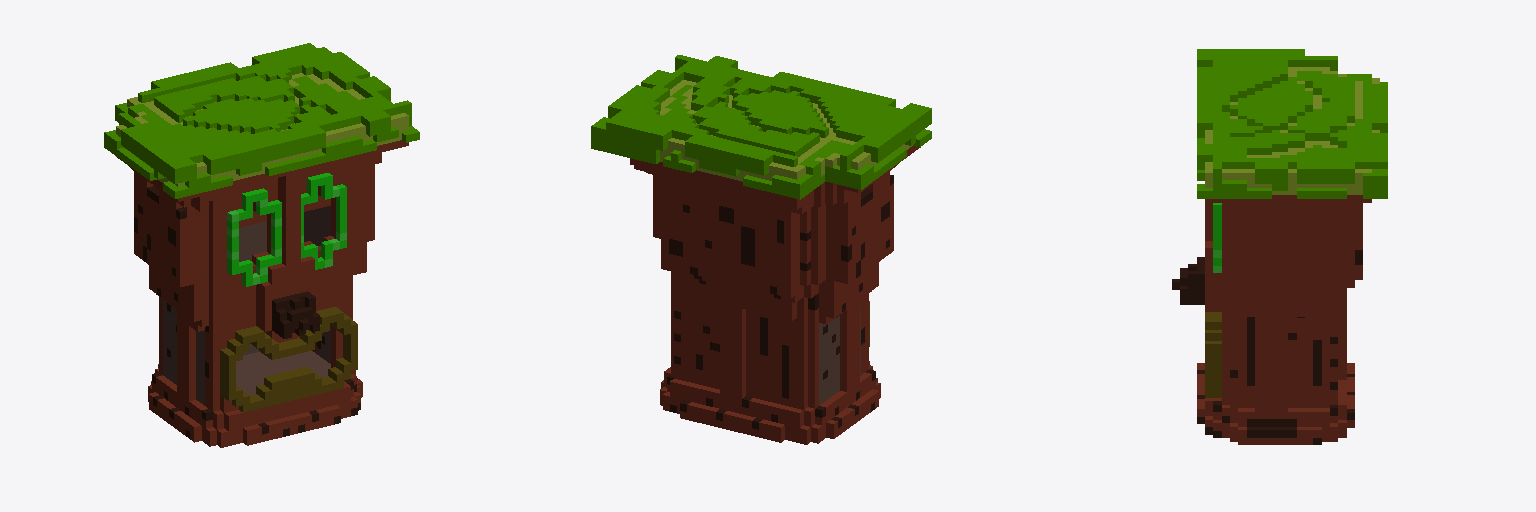
The picture shows the model from 3 angles: view 1: azimuth 30°, elevation 25°; view 2: azimuth 150°, elevation 25°; view 3: azimuth 270°, elevation 25°; orthographic projection.
Parts seen in each view (by area): view 1: totem001; view 2: totem001; view 3: totem001.
Boxes of the visible parts, x1=… form: totem001: x1=104, y1=43, x2=419, y2=447; totem001: x1=591, y1=55, x2=931, y2=444; totem001: x1=1172, y1=49, x2=1387, y2=444.
Size of the model in its own units: 44.8 by 51.39 by 34.26.
1 materials, 1 textured.